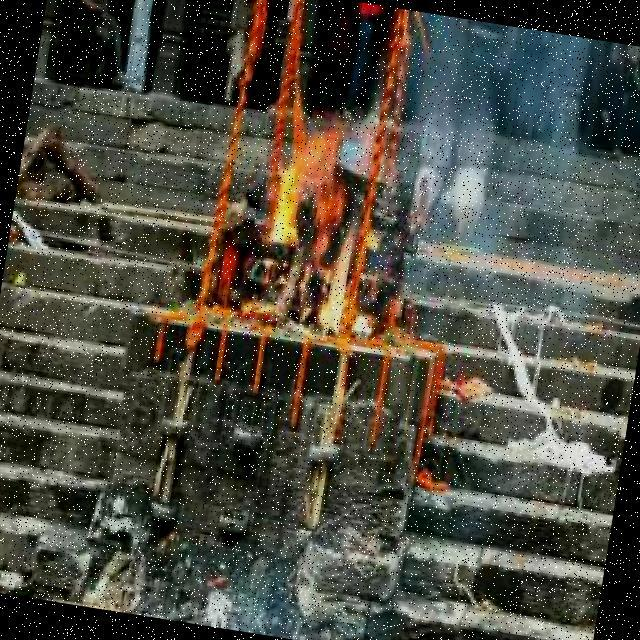Fire: (248, 106, 383, 340)
